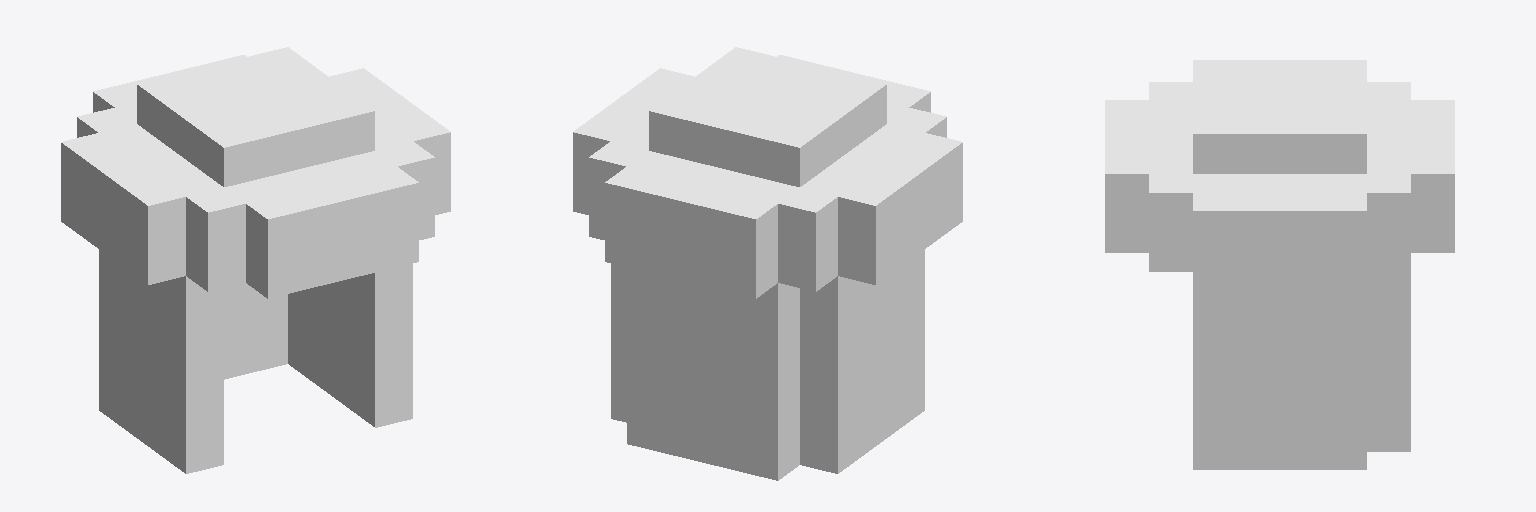
The model's file is char-176-helm_lgt_3b_sh.obj.
The picture shows the model from 3 angles: view 1: azimuth 30°, elevation 25°; view 2: azimuth 150°, elevation 25°; view 3: azimuth 270°, elevation 25°; orthographic projection.
Parts seen in each view (by area): view 1: helm_lgt_3b_sh; view 2: helm_lgt_3b_sh; view 3: helm_lgt_3b_sh.
Part boxes in pixels (x1,y1,x2,y2): helm_lgt_3b_sh: (61, 47, 450, 473); helm_lgt_3b_sh: (573, 47, 962, 480); helm_lgt_3b_sh: (1105, 60, 1454, 469).
Size of the model in its own units: 0.8 by 0.8 by 0.8.